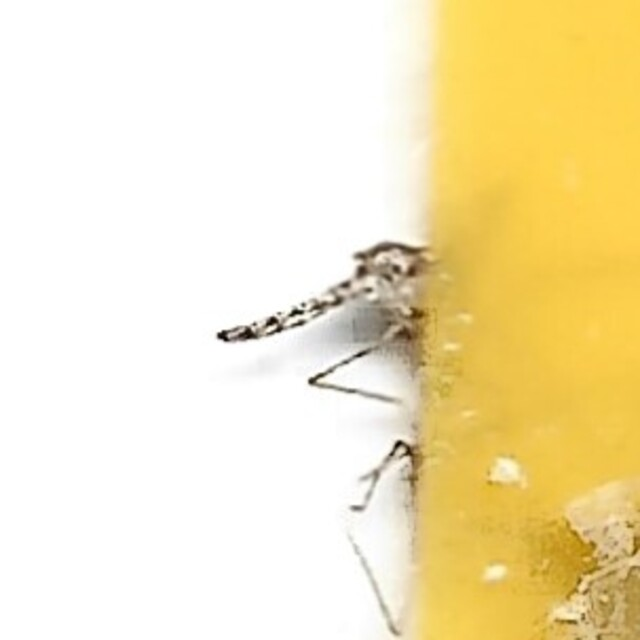Nematocera: (211, 225, 429, 415)
